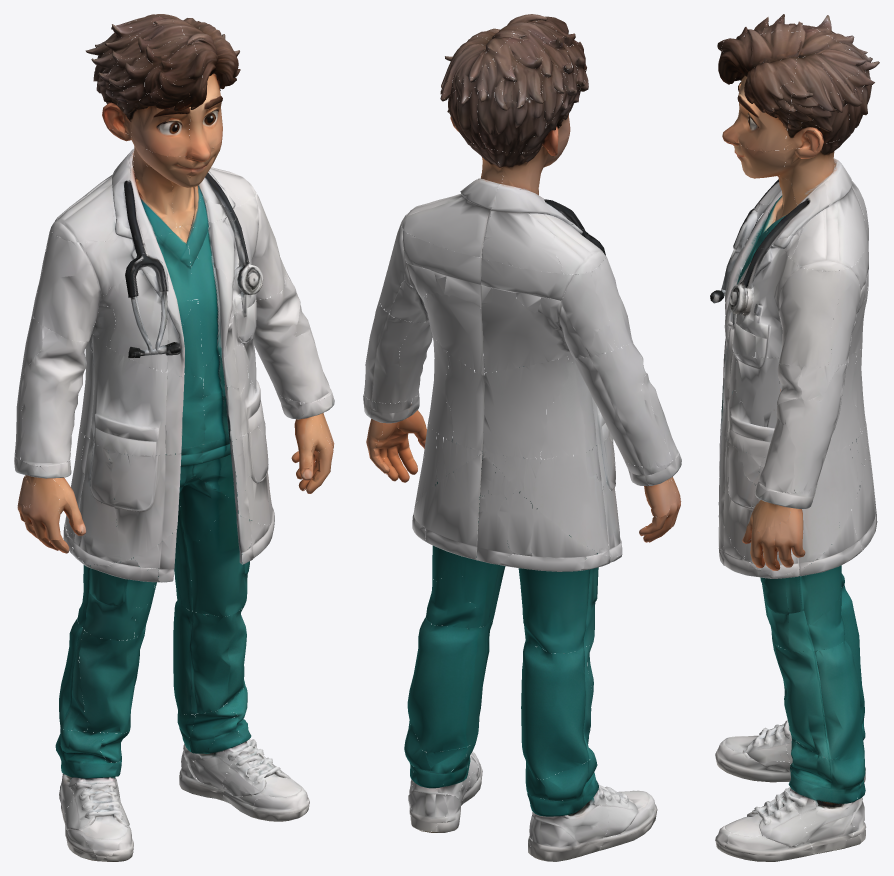
The model's file is dr-caloni-arena.glb.
3 renders of one model, left to right at view 1: azimuth 30°, elevation 25°; view 2: azimuth 150°, elevation 25°; view 3: azimuth 270°, elevation 25°, orthographic.
Parts seen in each view (by area): view 1: tripo_node_49416eef-8b6c-43cd-a5af-1bf04f2a4a7d; view 2: tripo_node_49416eef-8b6c-43cd-a5af-1bf04f2a4a7d; view 3: tripo_node_49416eef-8b6c-43cd-a5af-1bf04f2a4a7d.
Boxes of the visible parts, x1=… form: tripo_node_49416eef-8b6c-43cd-a5af-1bf04f2a4a7d: x1=14, y1=14, x2=334, y2=861; tripo_node_49416eef-8b6c-43cd-a5af-1bf04f2a4a7d: x1=363, y1=14, x2=681, y2=861; tripo_node_49416eef-8b6c-43cd-a5af-1bf04f2a4a7d: x1=710, y1=14, x2=879, y2=861.
Bounding box in the file's own units: 0.3998 × 0.981 × 0.1926.
1 material, 1 textured.
